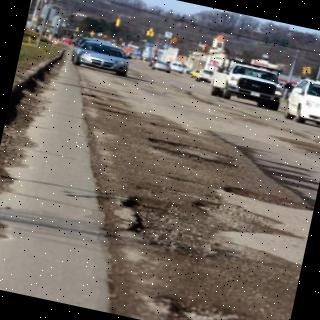pothole: (119, 192, 303, 258), (147, 137, 236, 169), (215, 185, 310, 209)
